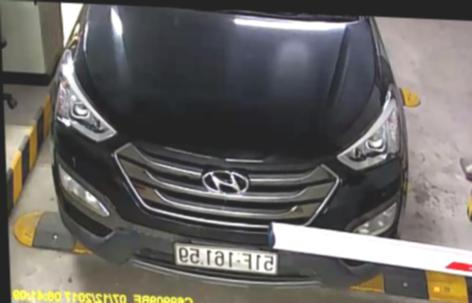License_Plate: (173, 241, 281, 275)
